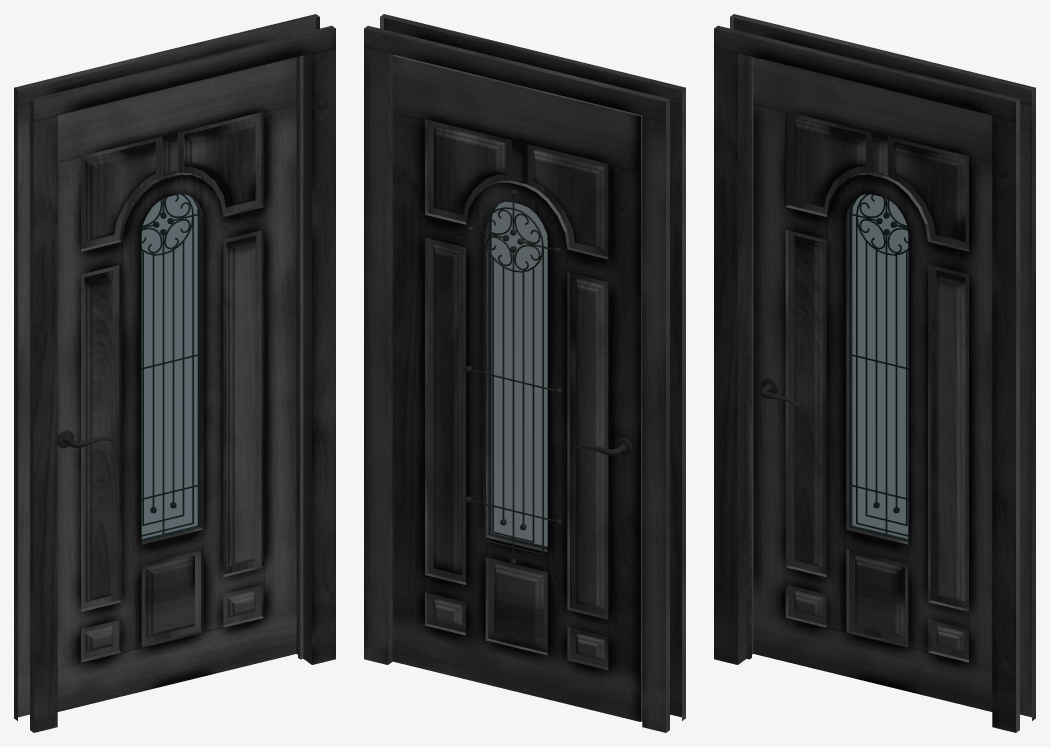
The model's file is Door.obj.
The picture shows the model from 3 angles, left to right: view 1: azimuth 30°, elevation 25°; view 2: azimuth 150°, elevation 25°; view 3: azimuth 330°, elevation 25°; orthographic projection.
Parts seen in each view (by area): view 1: Door_Standart; view 2: Door_Standart; view 3: Door_Standart.
Part boxes in pixels (x1,y1,x2,y2): Door_Standart: (14, 14, 335, 732); Door_Standart: (364, 14, 685, 732); Door_Standart: (714, 14, 1035, 732).
Bounding box in the file's own units: 101 × 201 × 16.81.
3 materials, 1 textured.
